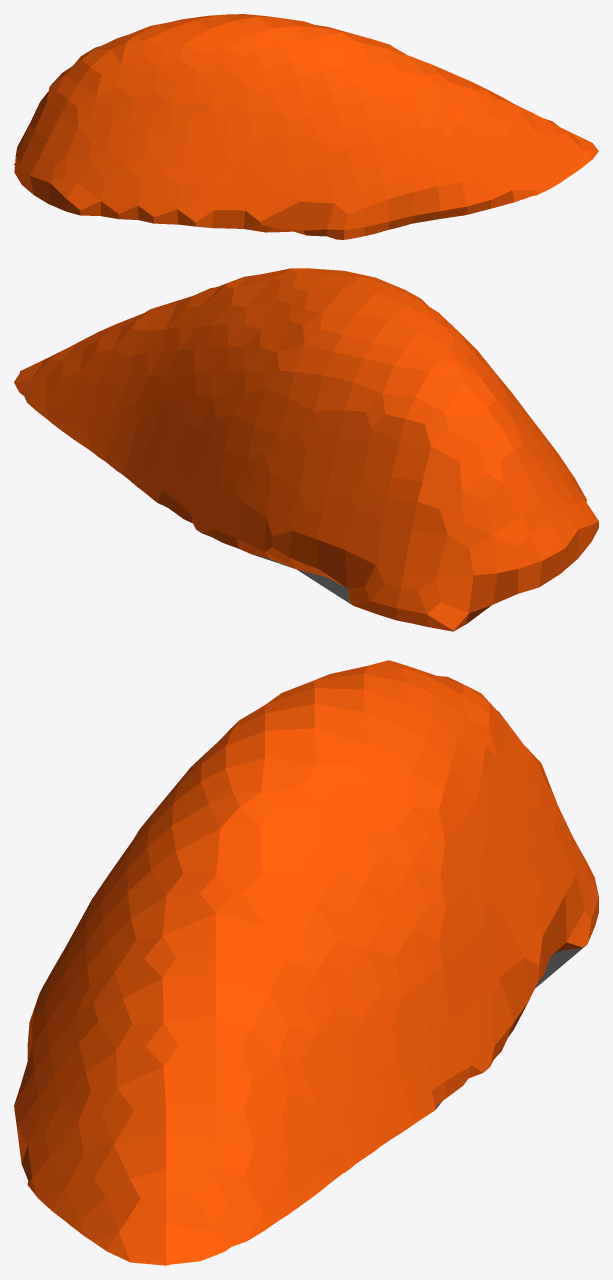
3 renders of one model, top to bottom at view 1: azimuth 30°, elevation 25°; view 2: azimuth 150°, elevation 25°; view 3: azimuth 270°, elevation 25°, orthographic. The views are drawn at different scales.
Visible parts, largest first — view 1: 19.016; view 2: 19.016; view 3: 19.016.
Part boxes in pixels (x1,y1,x2,y2): 19.016: [14, 14, 598, 239]; 19.016: [14, 268, 598, 631]; 19.016: [14, 660, 598, 1265].
Size of the model in its own units: 9.99 by 3.27 by 5.91.
